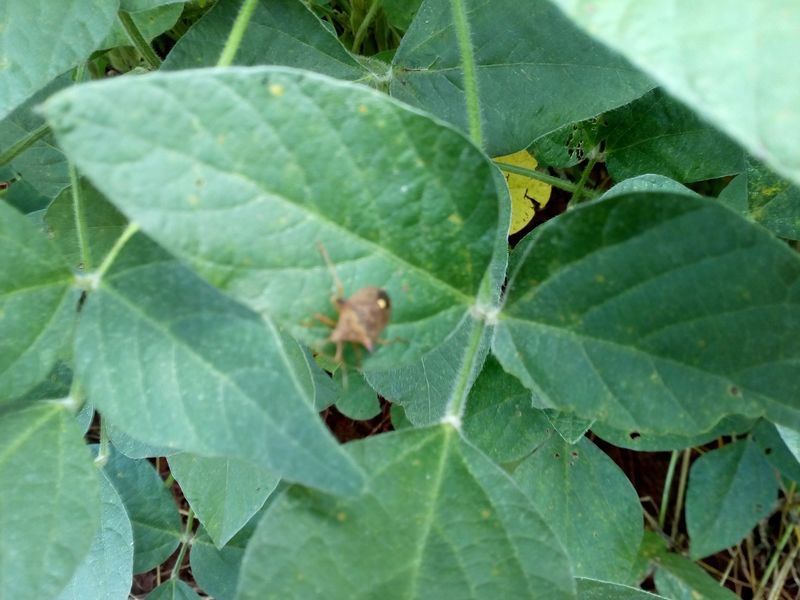Euschistus_heros_adulto: (299, 243, 417, 384)
